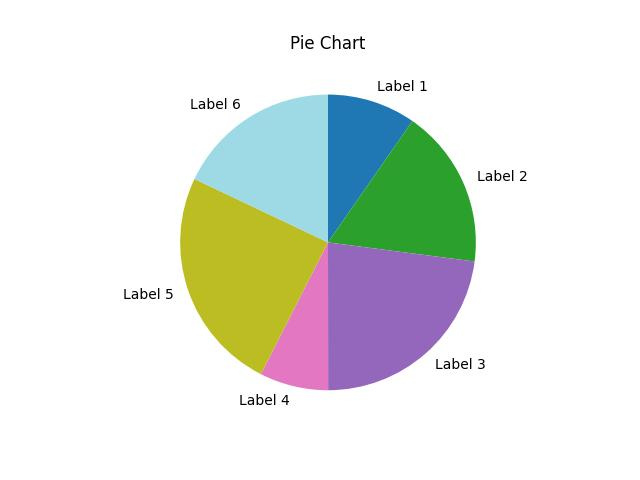sector: (180, 180, 329, 375), (328, 243, 475, 391), (329, 118, 476, 262), (195, 93, 329, 243), (328, 94, 412, 243), (261, 244, 327, 391)
